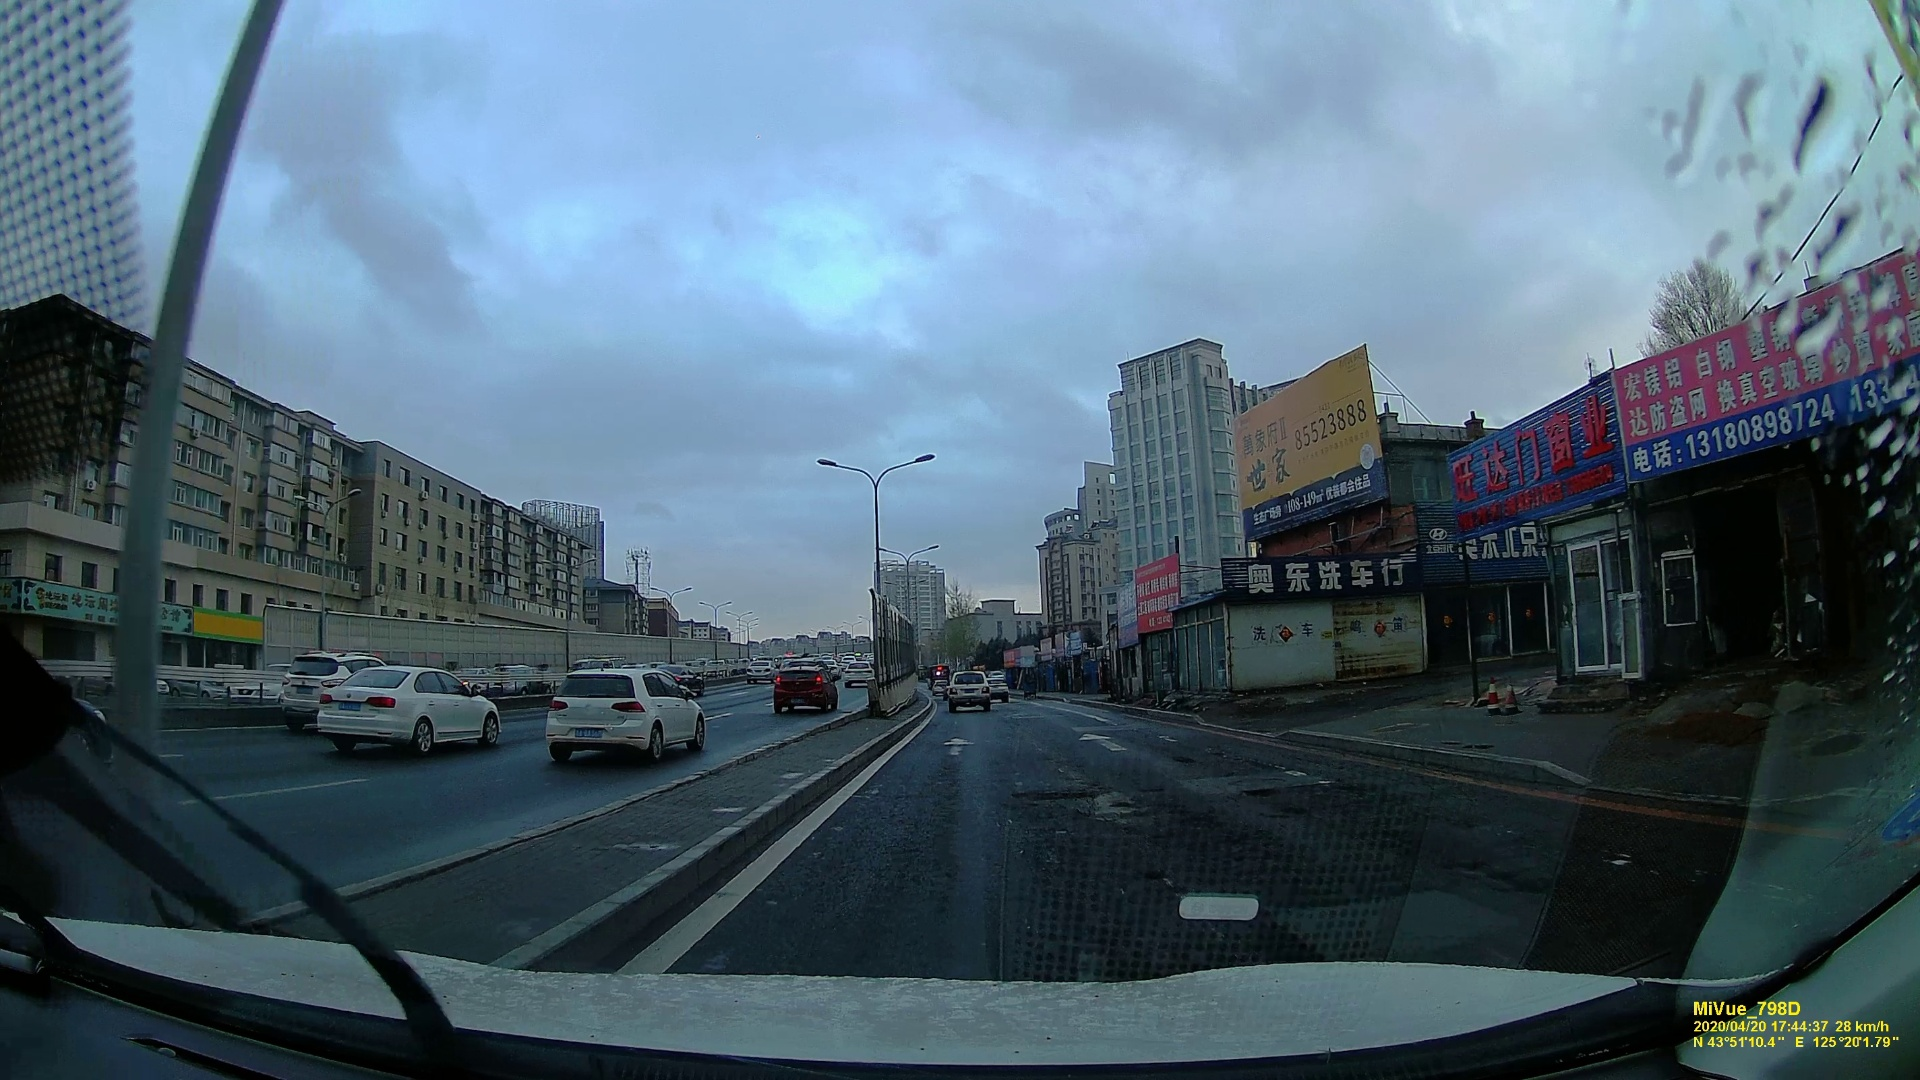vehicle: (541, 663, 704, 764), (315, 669, 501, 752), (280, 654, 345, 728), (767, 663, 840, 711), (947, 671, 992, 713), (844, 659, 873, 688), (742, 659, 775, 684)
